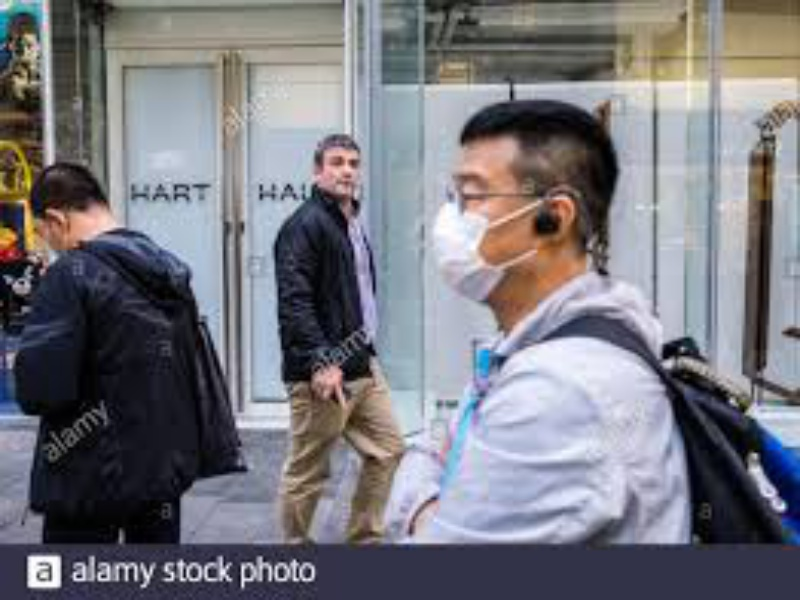ManaoArotava: (423, 100, 576, 311)
TsisyArotava: (304, 133, 378, 207)
